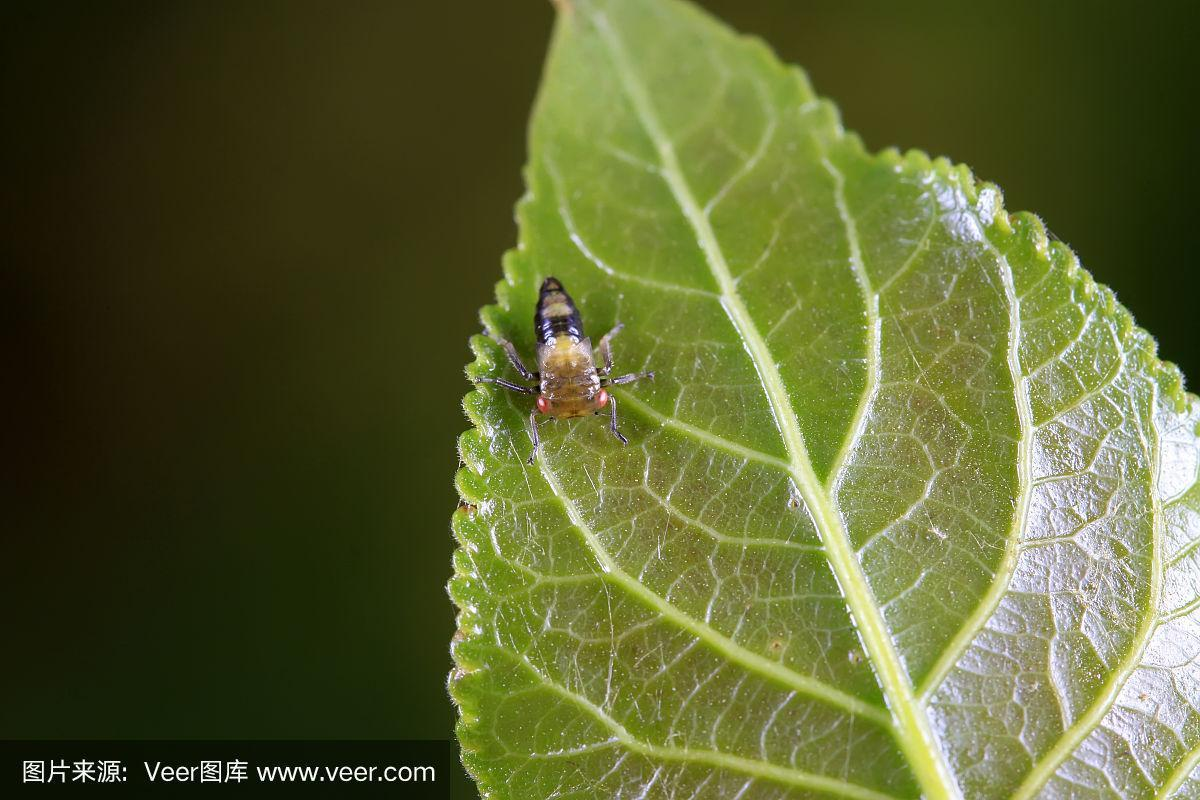Cicadellidae: (486, 274, 653, 442)
